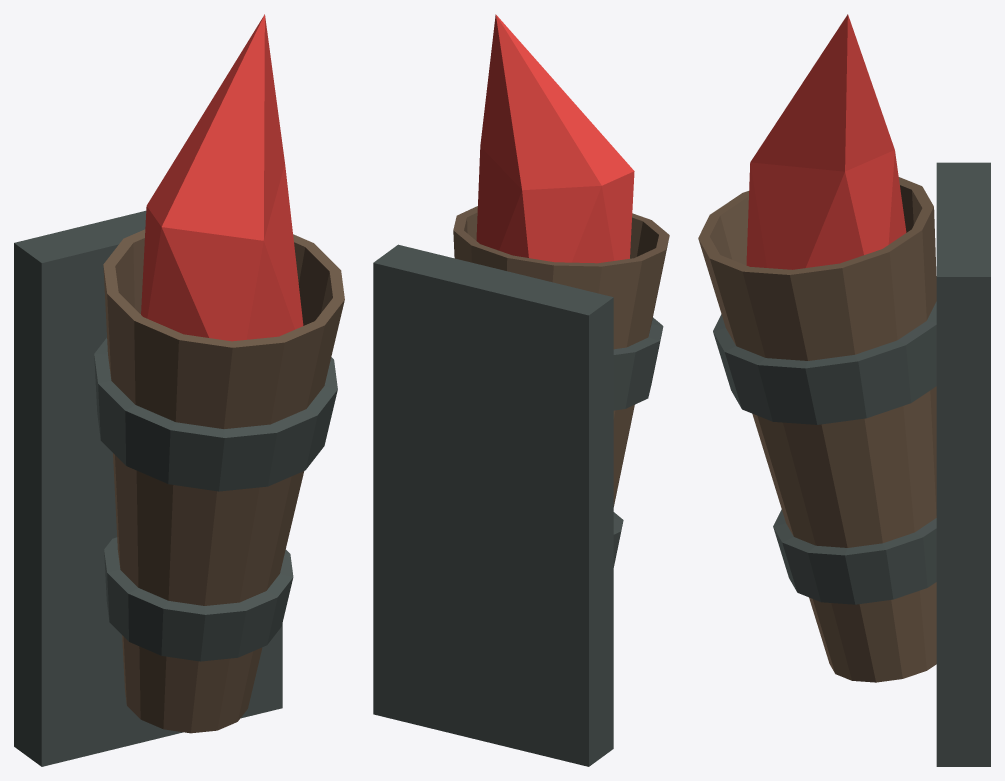
Rendered from Torch_1_Brown.fbx.
3 views of the same model, side by side, from view 1: azimuth 30°, elevation 25°; view 2: azimuth 150°, elevation 25°; view 3: azimuth 270°, elevation 25° (orthographic). The views are drawn at different scales.
Visible parts, largest first — view 1: Torch_1_Brown_Part_1, Torch_1_Brown_Part_2, Torch_1_Brown_Part_3; view 2: Torch_1_Brown_Part_1, Torch_1_Brown_Part_3, Torch_1_Brown_Part_2; view 3: Torch_1_Brown_Part_1, Torch_1_Brown_Part_2, Torch_1_Brown_Part_3.
Part boxes in pixels (left/top/right/bottom): Torch_1_Brown_Part_1: left=14, top=210, right=337, bottom=766; Torch_1_Brown_Part_2: left=103, top=229, right=344, bottom=733; Torch_1_Brown_Part_3: left=141, top=14, right=303, bottom=341; Torch_1_Brown_Part_1: left=373, top=244, right=663, bottom=766; Torch_1_Brown_Part_3: left=476, top=14, right=634, bottom=263; Torch_1_Brown_Part_2: left=453, top=206, right=669, bottom=506; Torch_1_Brown_Part_1: left=713, top=162, right=990, bottom=766; Torch_1_Brown_Part_2: left=698, top=177, right=936, bottom=682; Torch_1_Brown_Part_3: left=746, top=14, right=906, bottom=269.
Size of the model in its own units: 20 by 59.01 by 21.65.
